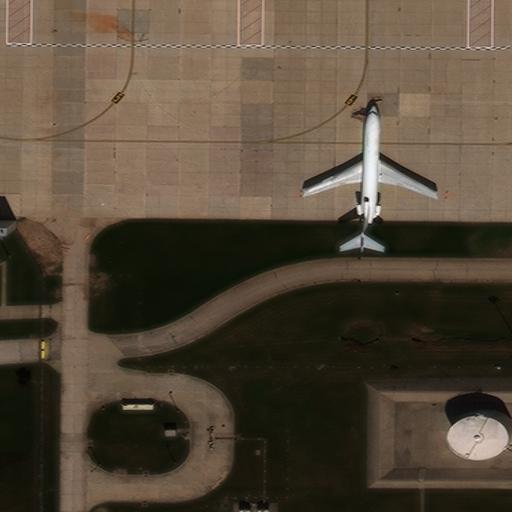Medium Civil Transport: (303, 105, 435, 253)
